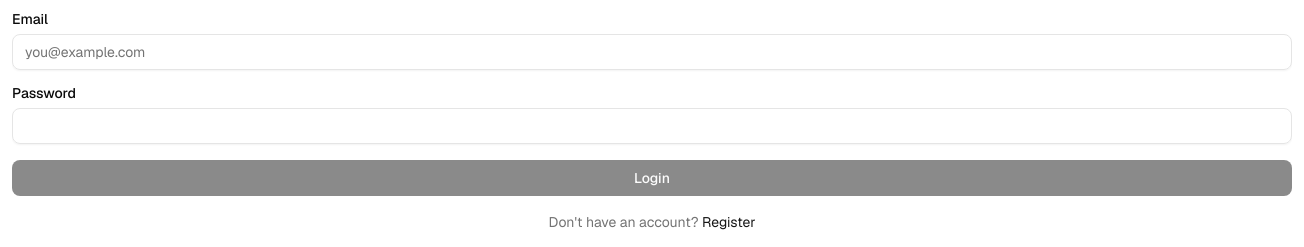
Test: LoginForm › should show loading state during submission
In the field labelled "Email": (652, 52) [12,34,1292,70], type "test@example.com"
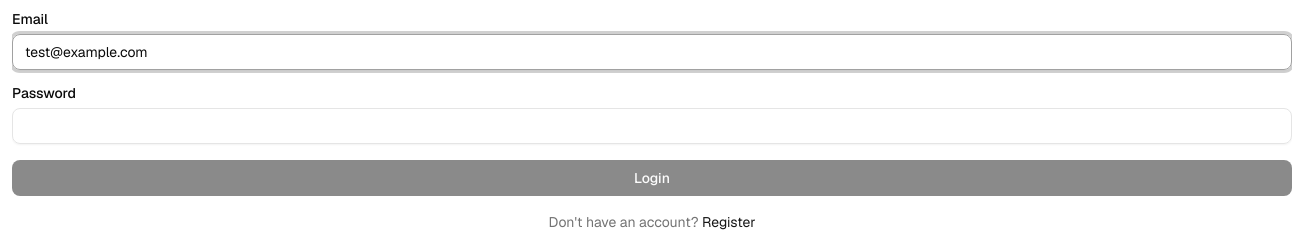
In the password field labelled "Password": (652, 126) [12,108,1292,144], type "password123"
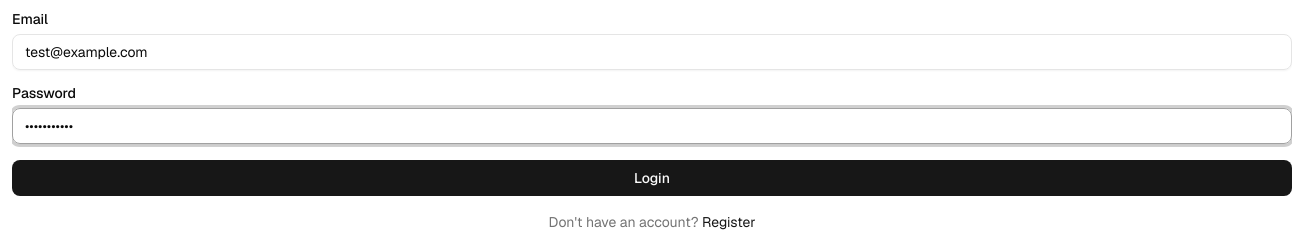
Click the button "Login": (652, 178) [12,160,1292,196]
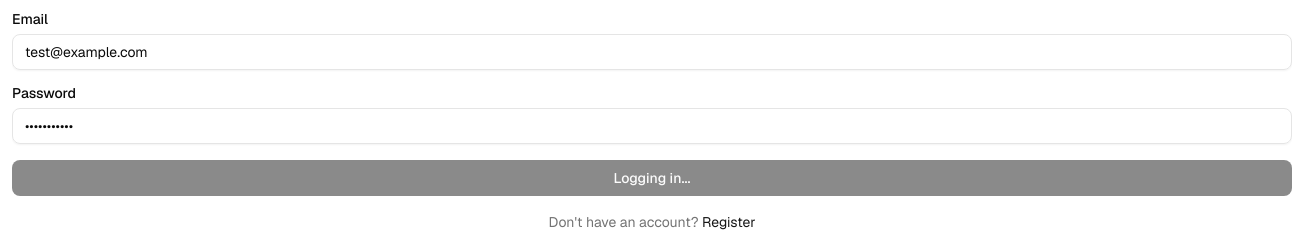
Expected: the button "Logging in..." is disabled, [12,160,1292,196]
